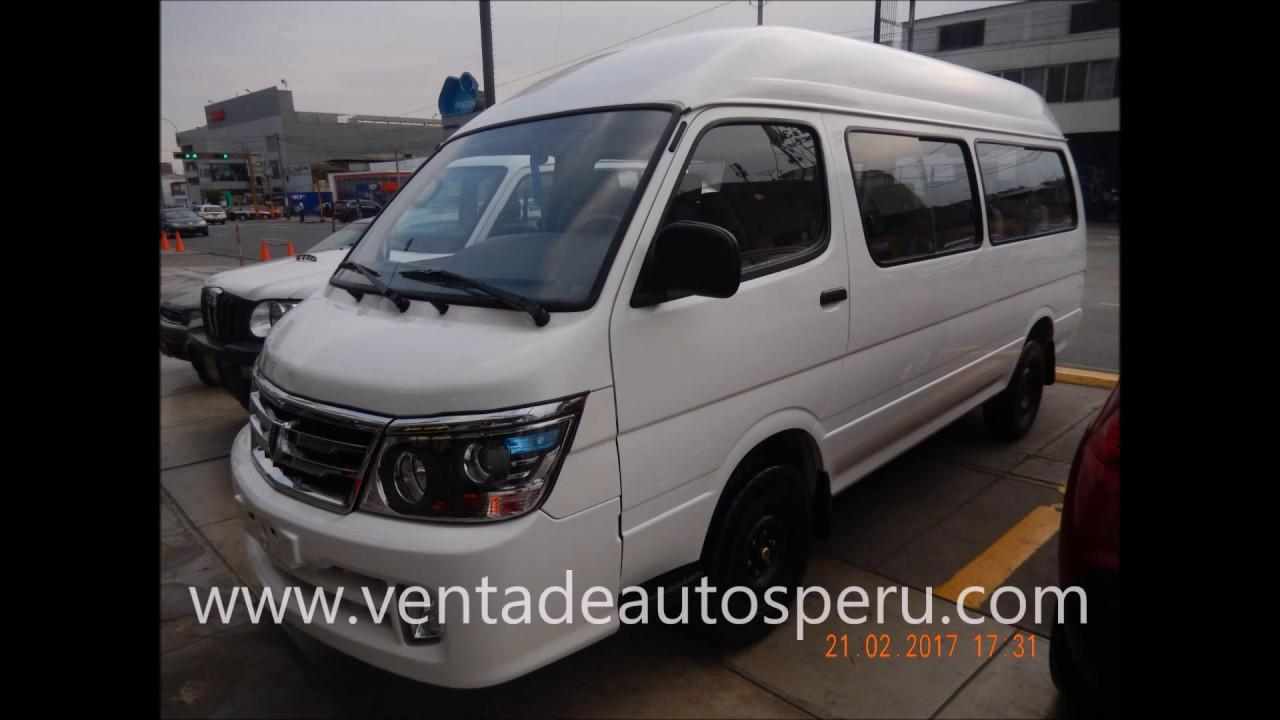Van: (229, 24, 1096, 610)
